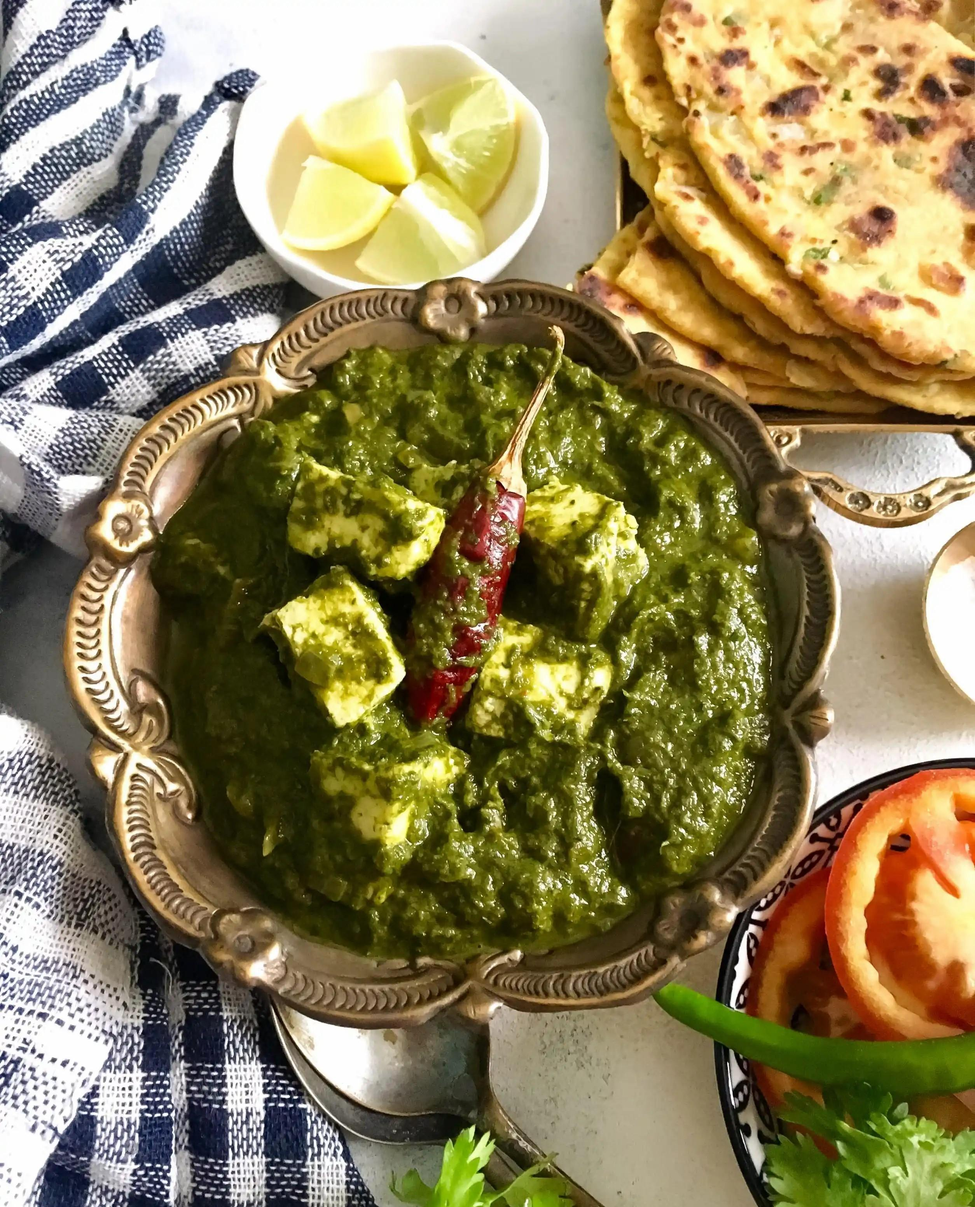PalakPaneer: (169, 342, 778, 937)
